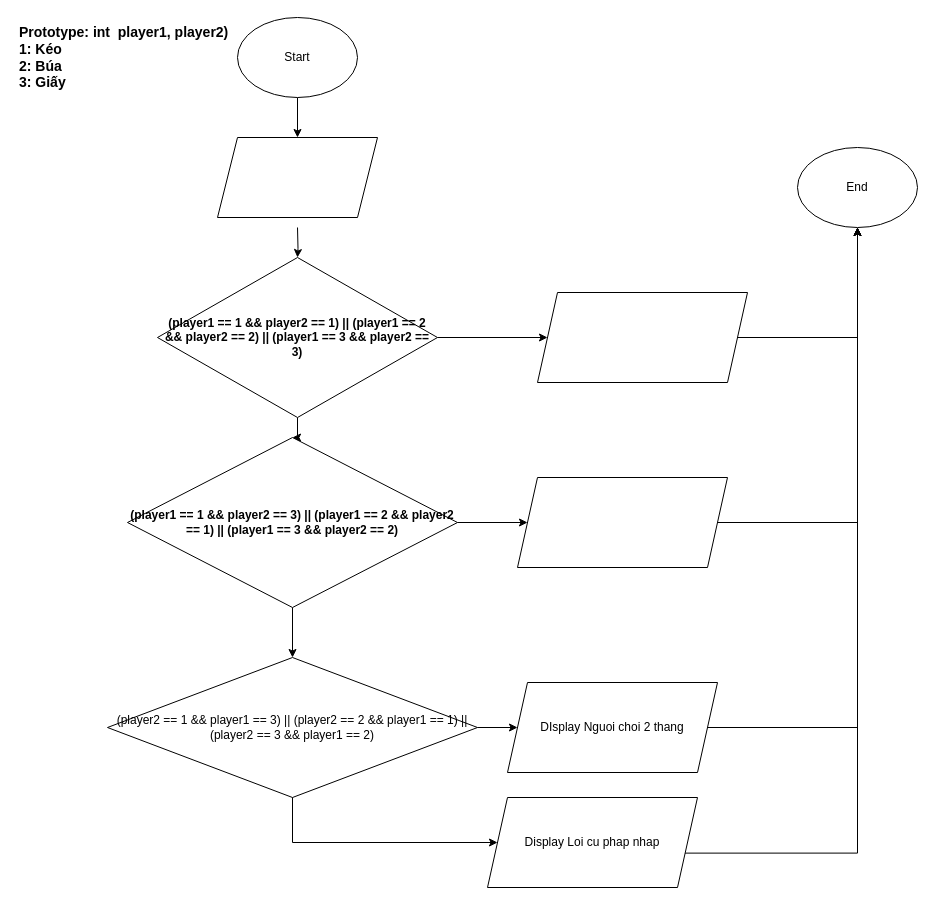
The diagram is 935 pixels wide and 905 high, and some of its shapes have lost their labels. The centre of each missing label's shape, as x and y in pixels:
"Display Hoa nhau" belongs at [642,337].
"Display Nguoi choi 1 thang" belongs at [622,522].
"Input player1, player2" belongs at [297,177].
